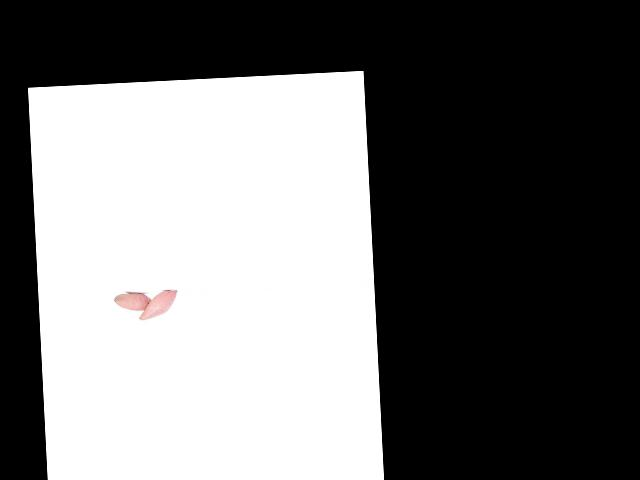sweet_potato: (112, 291, 155, 314)
